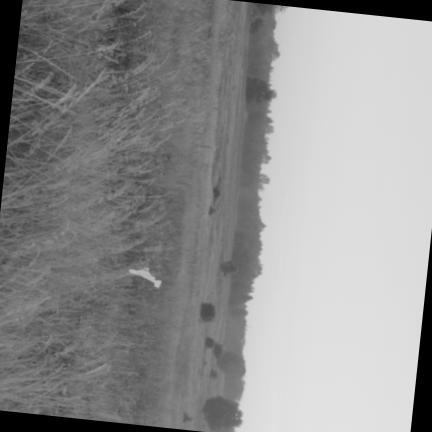Shahed: (128, 269, 160, 287)
